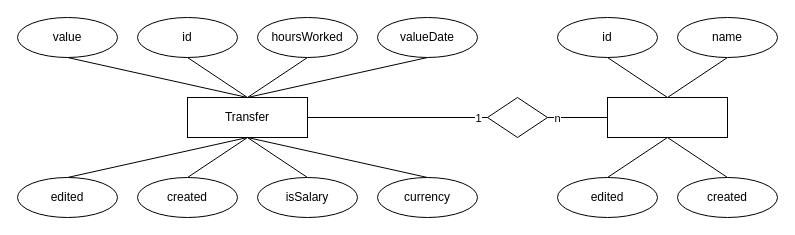
Some shapes in this 795 by 235 pixel diagram are drawn without their labels. Each missing label, with the box of its shape:
of: (486, 96, 548, 138)
Type: (606, 96, 728, 138)
